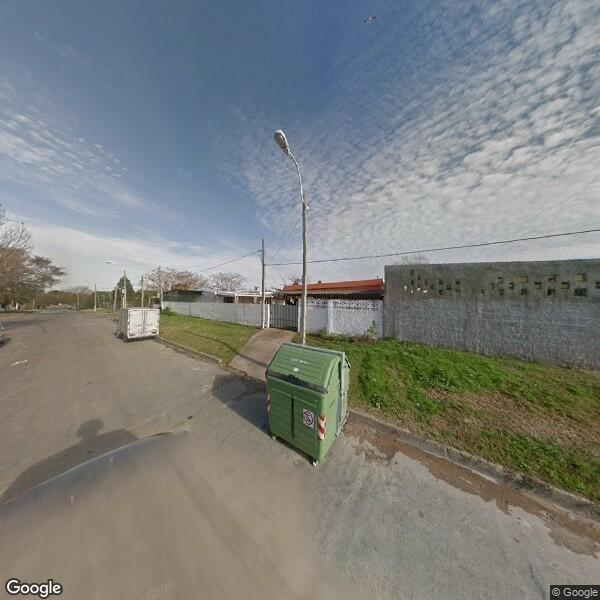Trash: (264, 342, 354, 463)
